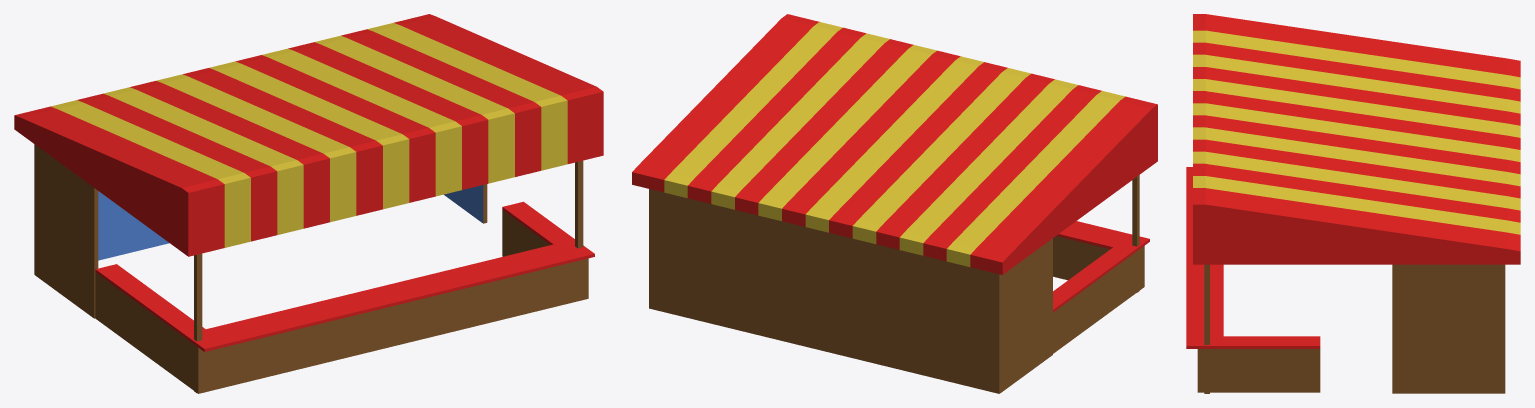
The model's file is stall.fbx.
3 renders of one model, left to right at view 1: azimuth 30°, elevation 25°; view 2: azimuth 150°, elevation 25°; view 3: azimuth 270°, elevation 25°, orthographic. The views are drawn at different scales.
Parts seen in each view (by area): view 1: Stall; view 2: Stall; view 3: Stall.
Boxes of the visible parts, x1,y1,x2,y2 form: Stall: (14, 14, 603, 393); Stall: (632, 14, 1157, 393); Stall: (1186, 14, 1520, 393).
Bounding box in the file's own units: 776 × 575 × 372.
